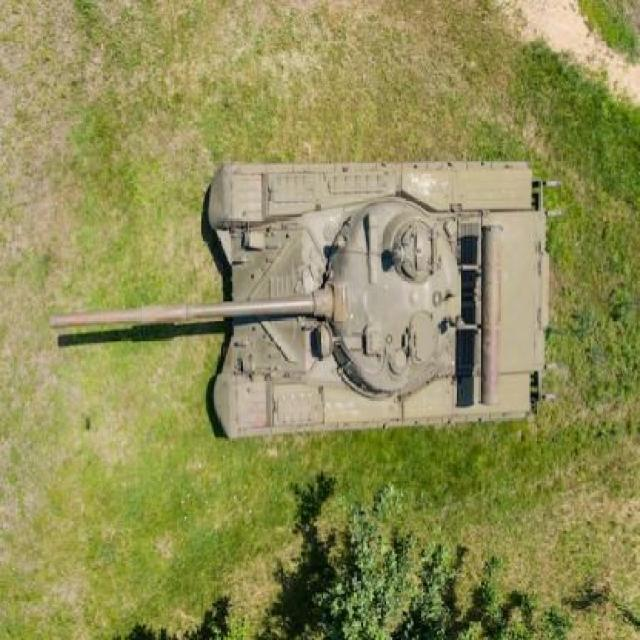Tanks: (49, 156, 552, 436)
